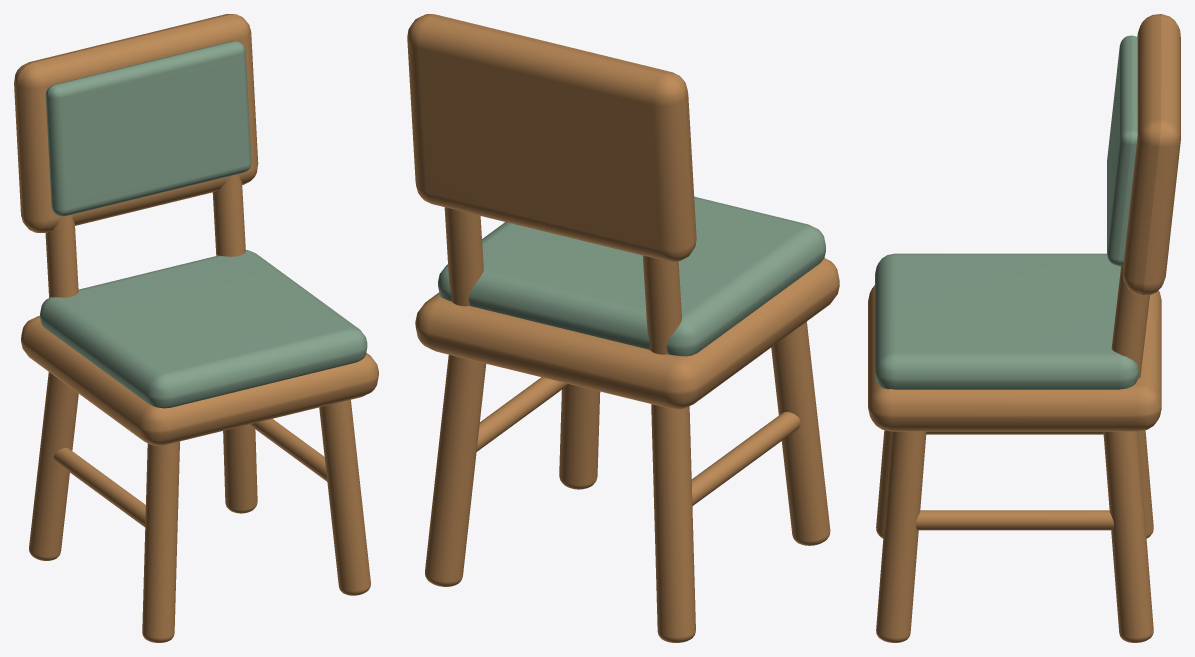
File: chair-sage.glb
3 renders of one model, left to right at view 1: azimuth 30°, elevation 25°; view 2: azimuth 150°, elevation 25°; view 3: azimuth 270°, elevation 25°, orthographic. The views are drawn at different scales.
Parts seen in each view (by area): view 1: chair-sage; view 2: chair-sage; view 3: chair-sage.
Part boxes in pixels (x1=…): chair-sage: x1=14, y1=14, x2=378, y2=642; chair-sage: x1=407, y1=14, x2=839, y2=642; chair-sage: x1=868, y1=14, x2=1180, y2=642.
Size of the model in its own units: 0.44 by 0.8608 by 0.4686.
